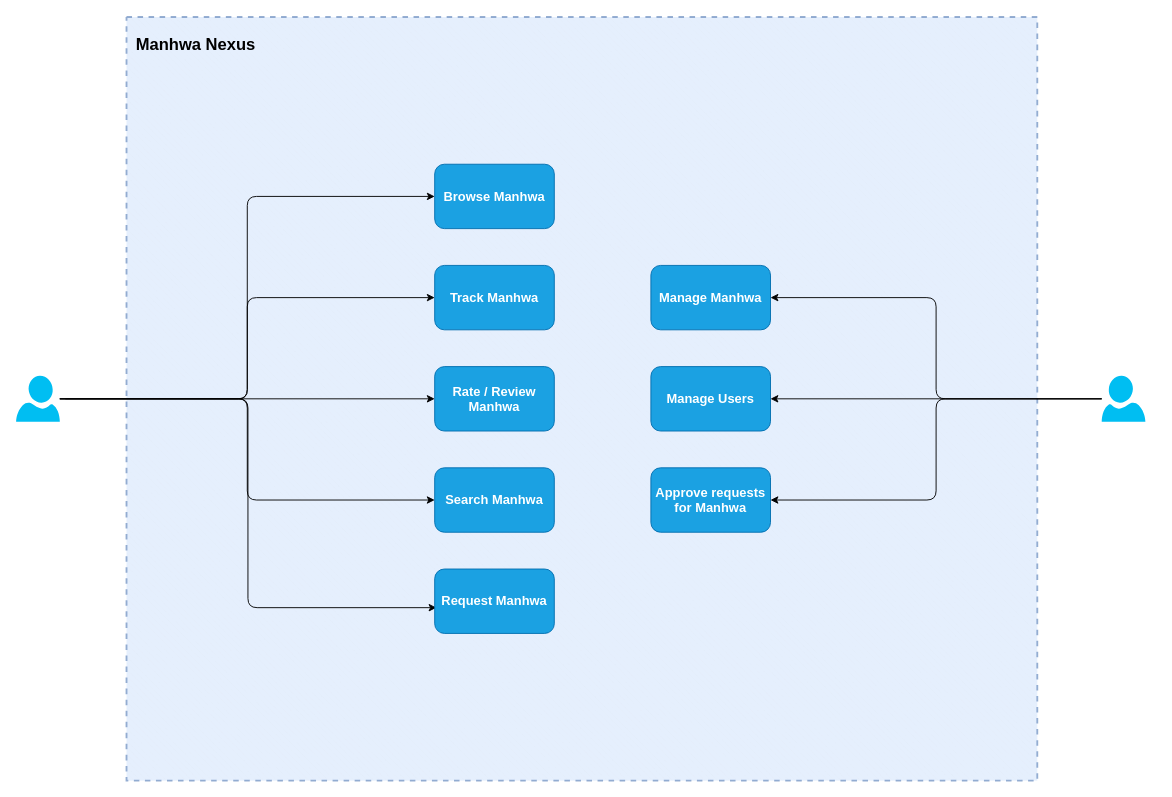
The diagram is 1172 pixels wide and 797 high, and some of its shapes have lost their labels. The shapes that lost their labels are listed below. From the top down, each one's centre as x and y in pixels, then its label:
At point (37, 398): "User".
At point (1123, 398): "Administrator".
